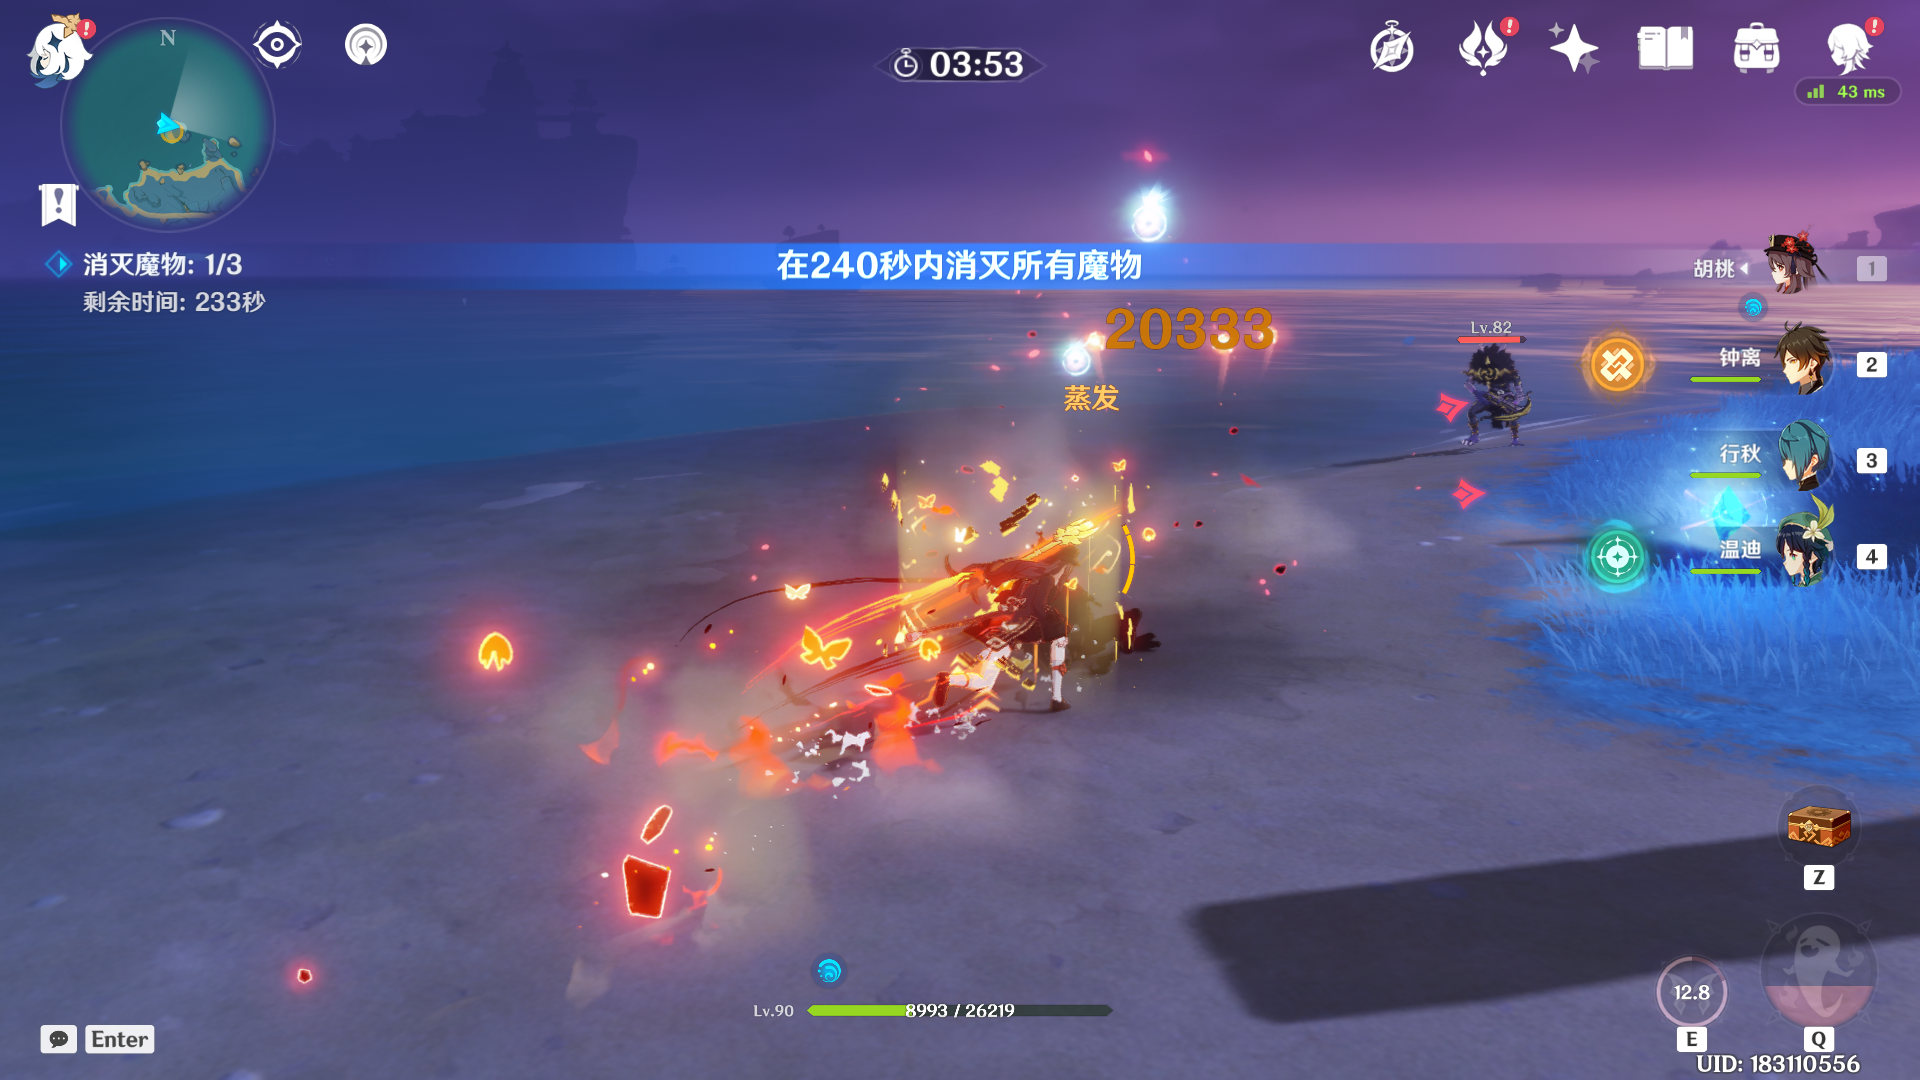character: (837, 531, 1164, 762)
hili: (1432, 328, 1563, 454)
